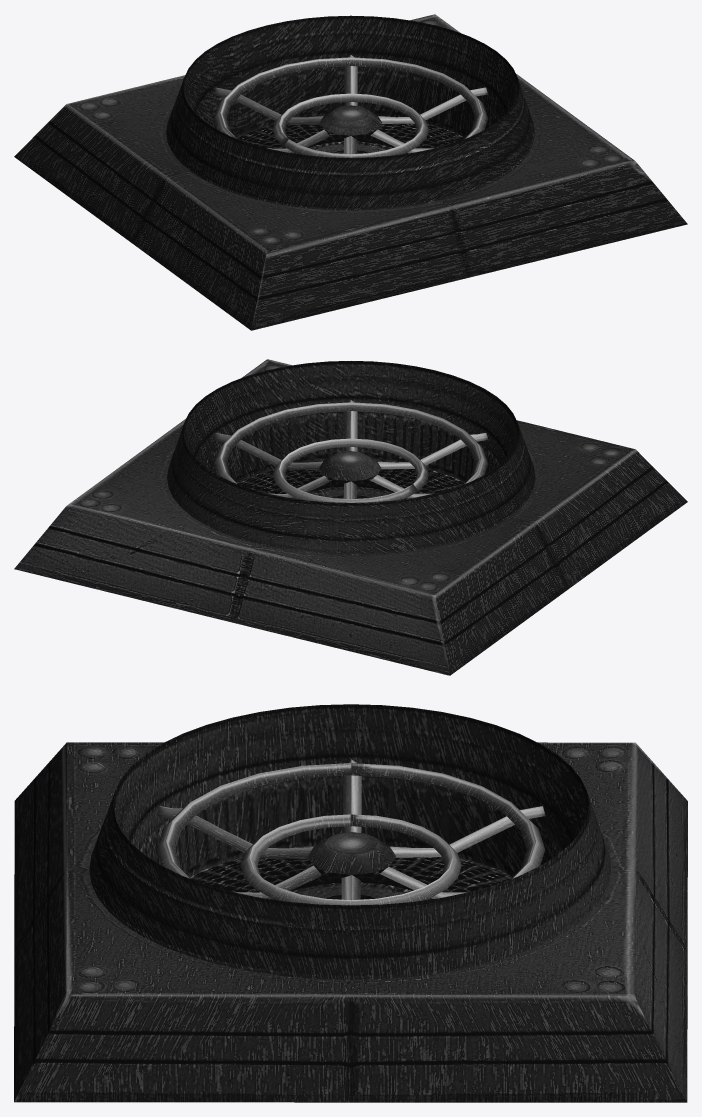
The model's file is fan.fbx.
3 renders of one model, top to bottom at view 1: azimuth 30°, elevation 25°; view 2: azimuth 150°, elevation 25°; view 3: azimuth 270°, elevation 25°, orthographic. The views are drawn at different scales.
Visible parts, largest first — view 1: Industrial_Fan_1; view 2: Industrial_Fan_1; view 3: Industrial_Fan_1.
Part boxes in pixels (x1=…): Industrial_Fan_1: x1=14, y1=14, x2=687, y2=330; Industrial_Fan_1: x1=14, y1=359, x2=687, y2=675; Industrial_Fan_1: x1=14, y1=704, x2=687, y2=1102.
Bounding box in the file's own units: 297 × 88.43 × 280.
